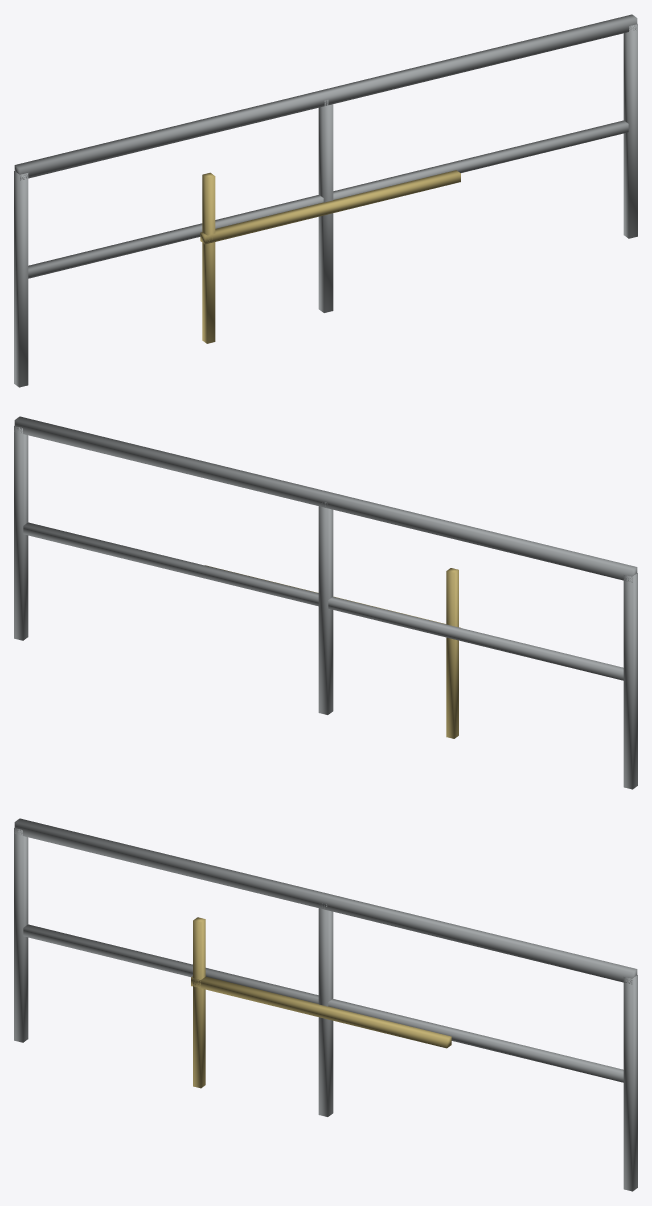
Rendered from residential_gate_l300_h100.glb.
3 renders of one model, top to bottom at view 1: azimuth 30°, elevation 25°; view 2: azimuth 150°, elevation 25°; view 3: azimuth 330°, elevation 25°, orthographic.
Visible parts, largest first — view 1: world; view 2: world; view 3: world.
Part boxes in pixels (left/top/right/bottom): world: left=14, top=14, right=637, bottom=387; world: left=14, top=416, right=637, bottom=789; world: left=14, top=818, right=637, bottom=1191.
Bounding box in the file's own units: 3.05 × 1.03 × 0.0825.
